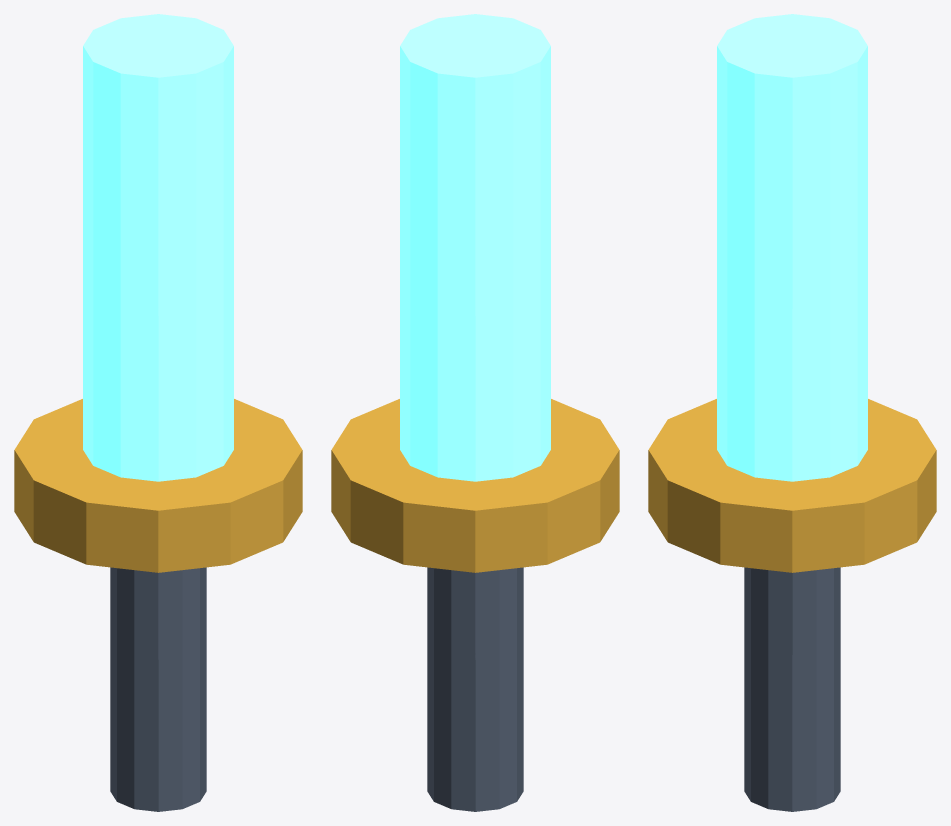
Rendered from Baton.fbx.
The picture shows the model from 3 angles, left to right: view 1: azimuth 30°, elevation 25°; view 2: azimuth 150°, elevation 25°; view 3: azimuth 270°, elevation 25°; orthographic projection.
Parts seen in each view (by area): view 1: Rod, Guard, Handle; view 2: Rod, Guard, Handle; view 3: Rod, Guard, Handle.
Part boxes in pixels (x1,y1,x2,y2): Rod: [83, 14, 233, 481]; Guard: [14, 399, 302, 572]; Handle: [110, 567, 206, 811]; Rod: [400, 14, 550, 481]; Guard: [331, 399, 619, 572]; Handle: [427, 567, 523, 811]; Rod: [717, 14, 867, 481]; Guard: [648, 399, 936, 572]; Handle: [744, 567, 840, 811].
Bounding box in the file's own units: 84 × 240 × 84.
